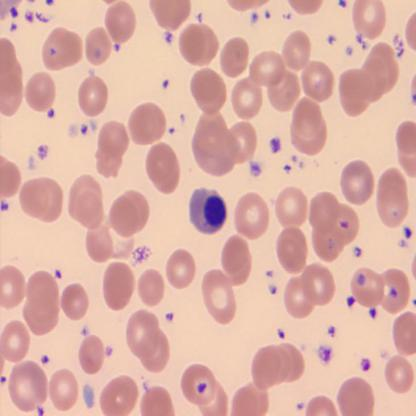NRC: (188, 185, 229, 236)
